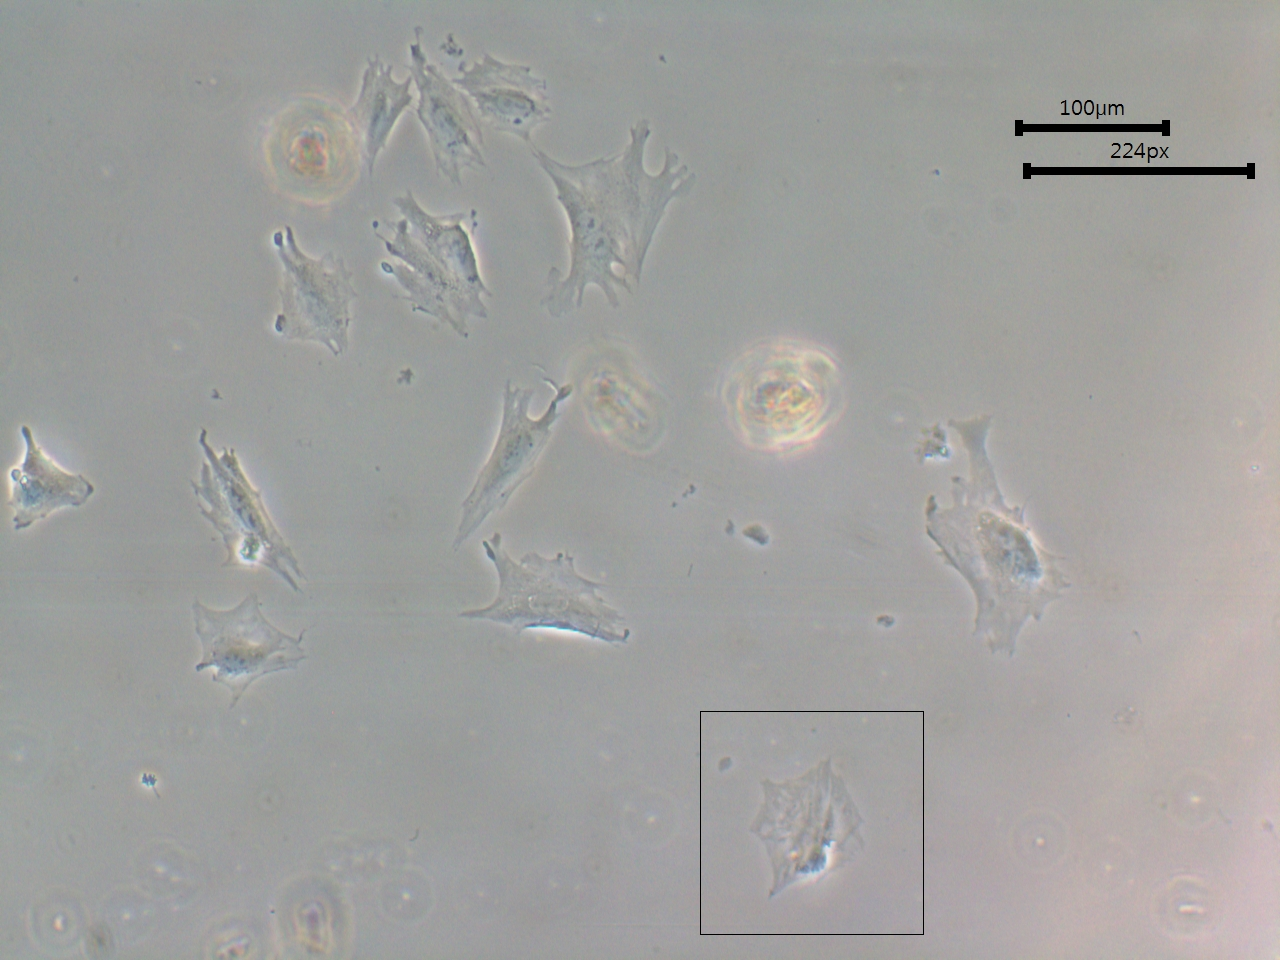dividing: (531, 117, 701, 323), (182, 424, 318, 595)
large-polygonal: (457, 374, 579, 539), (376, 185, 494, 344)
large-spread: (915, 412, 1078, 667)
medium-spread: (459, 525, 639, 651), (748, 755, 874, 907), (179, 592, 312, 711), (264, 225, 360, 361), (402, 40, 481, 174), (462, 51, 551, 144), (347, 56, 411, 176)
small-polygonal: (11, 416, 99, 554)
